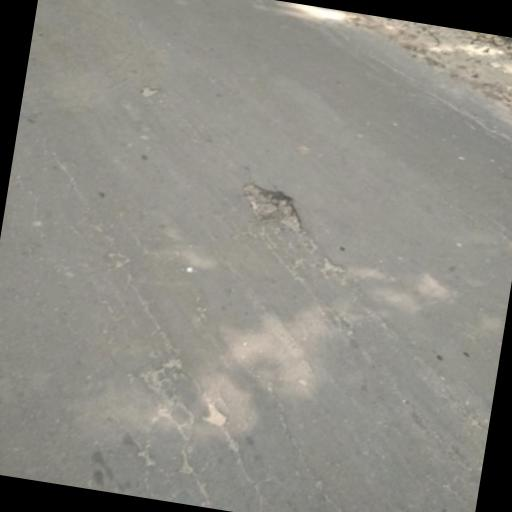pothole: (238, 178, 310, 234), (467, 52, 508, 74), (200, 399, 231, 428), (140, 82, 161, 100), (467, 30, 491, 40), (487, 43, 507, 53), (500, 35, 512, 45)
